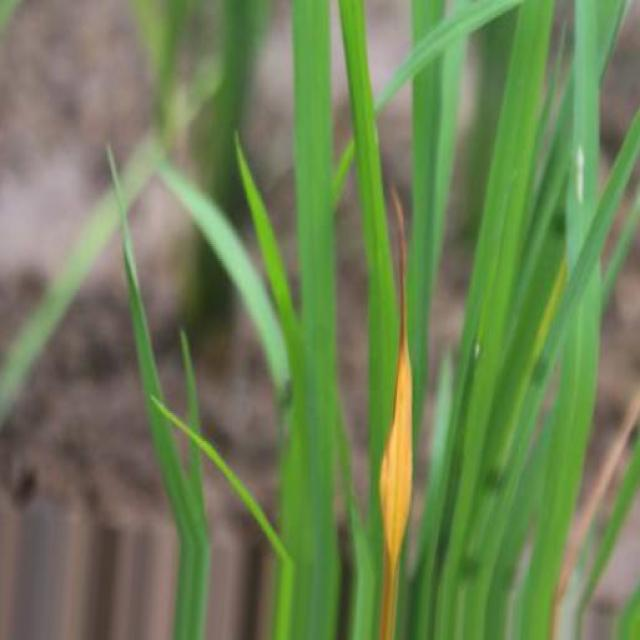Rice Tungro: (379, 190, 412, 638)
